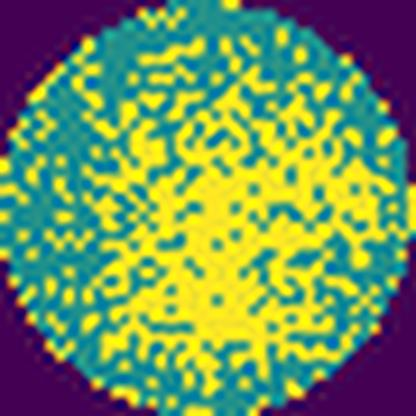Random: (68, 29, 413, 404)
